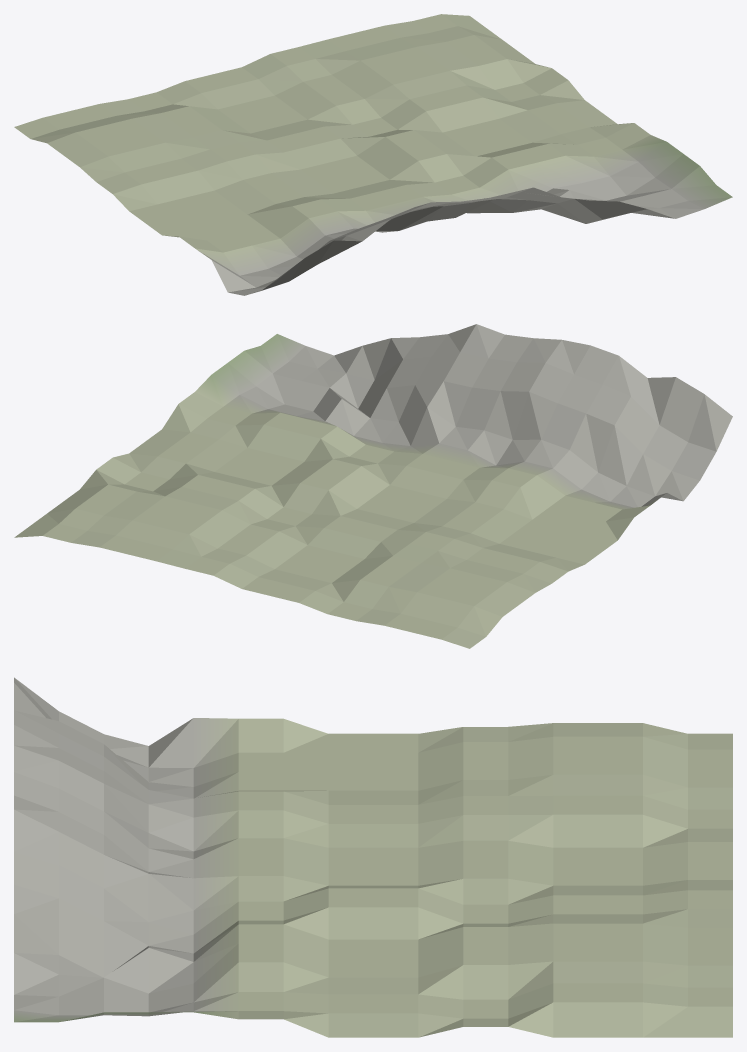
The picture shows the model from 3 angles, top to bottom: view 1: azimuth 30°, elevation 25°; view 2: azimuth 150°, elevation 25°; view 3: azimuth 270°, elevation 25°; orthographic projection. The views are drawn at different scales.
Size of the model in its own units: 32 by 5.91 by 32.
